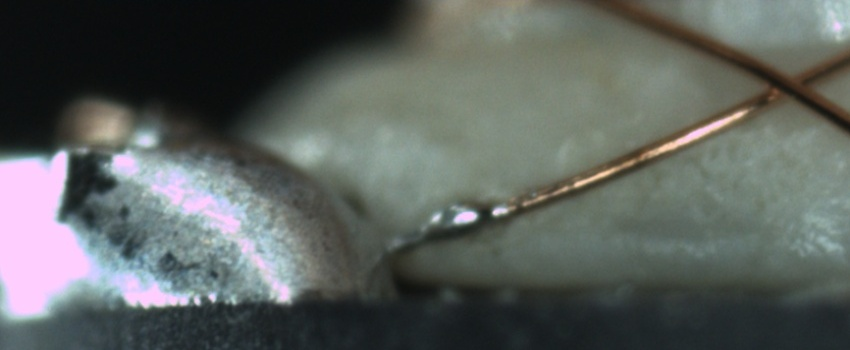CL: (741, 52, 836, 115)
TB: (426, 195, 487, 244)
TS: (390, 199, 509, 255)
TTCW: (382, 178, 559, 250)
